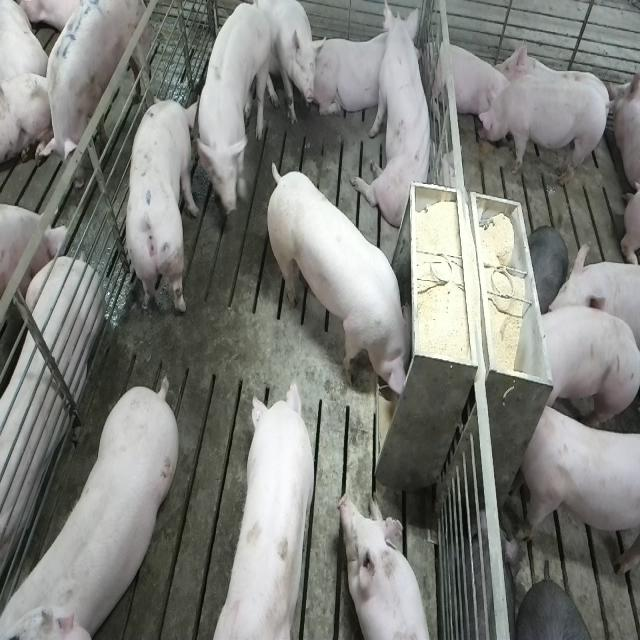Feeding: (270, 162, 421, 401)
Lateral_lying: (0, 203, 100, 588)
Sitting: (355, 4, 436, 229), (248, 2, 320, 132)
Standing: (6, 372, 184, 635), (200, 385, 318, 640), (32, 0, 150, 196), (518, 402, 637, 578), (197, 4, 280, 240), (124, 94, 202, 319), (477, 77, 611, 192), (547, 241, 640, 382), (538, 301, 640, 425)
Sternal_lying: (336, 491, 433, 640), (314, 29, 397, 123), (428, 37, 508, 131)
